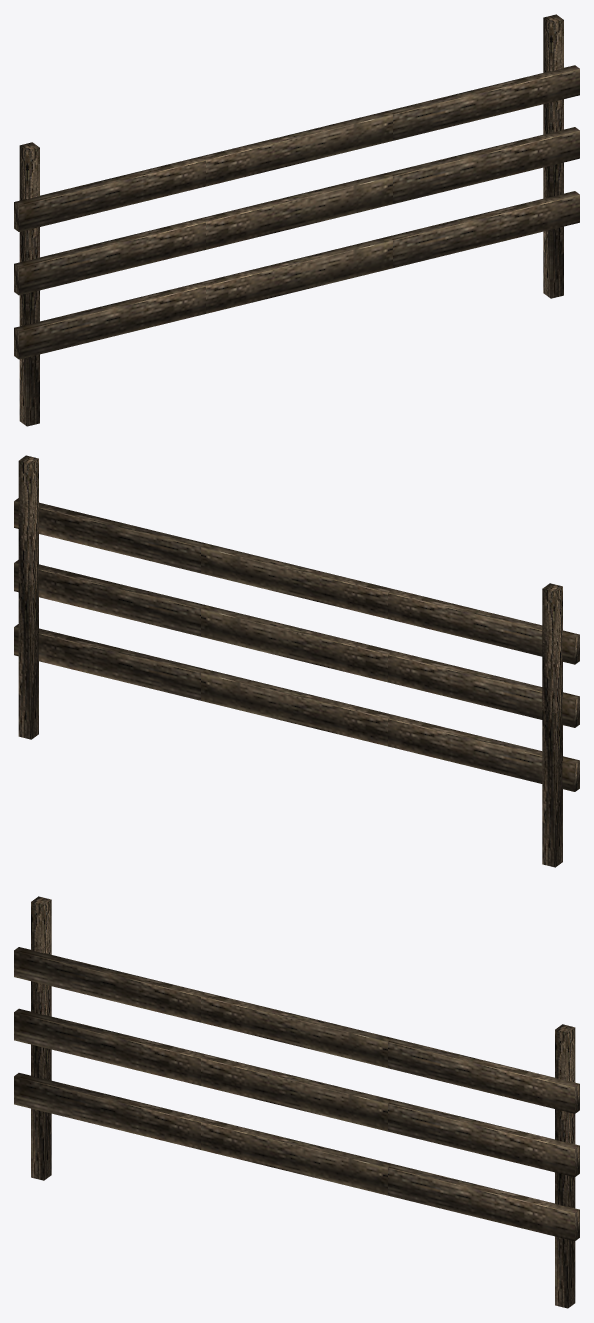
Rendered from Fence.fbx.
3 renders of one model, top to bottom at view 1: azimuth 30°, elevation 25°; view 2: azimuth 150°, elevation 25°; view 3: azimuth 330°, elevation 25°, orthographic.
Visible parts, largest first — view 1: Fence; view 2: Fence; view 3: Fence.
Boxes of the visible parts, bbox=[...] form: Fence: bbox=[14, 14, 579, 426]; Fence: bbox=[14, 455, 579, 867]; Fence: bbox=[14, 896, 579, 1308].
Bounding box in the file's own units: 2.99 × 1.41 × 0.1107.
